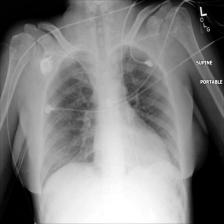normal: (34, 38, 186, 186)
